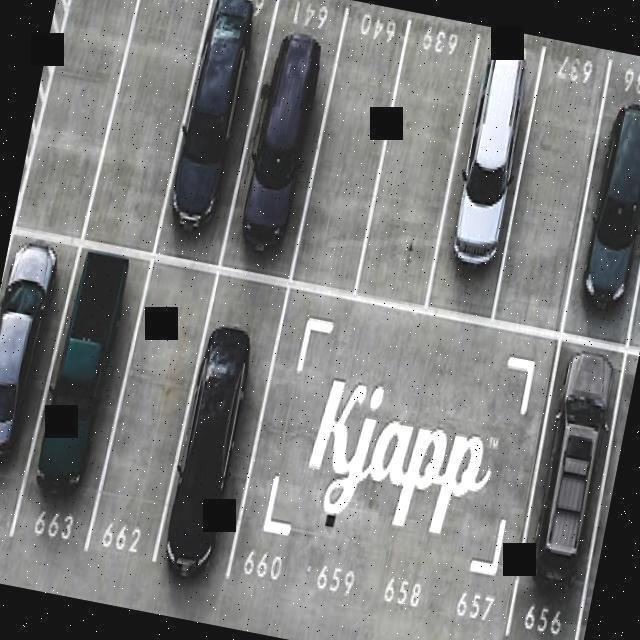space-empty: (292, 294, 425, 617), (364, 308, 498, 623), (88, 251, 219, 568), (438, 323, 562, 639), (232, 287, 361, 587), (352, 11, 479, 301), (495, 48, 616, 323), (83, 0, 219, 244), (289, 15, 408, 287), (15, 0, 144, 226)
space-occupied: (494, 330, 633, 640), (16, 228, 149, 551), (153, 268, 287, 588), (216, 0, 346, 284), (428, 29, 545, 301), (156, 0, 277, 246), (557, 68, 640, 342), (0, 224, 75, 525)
